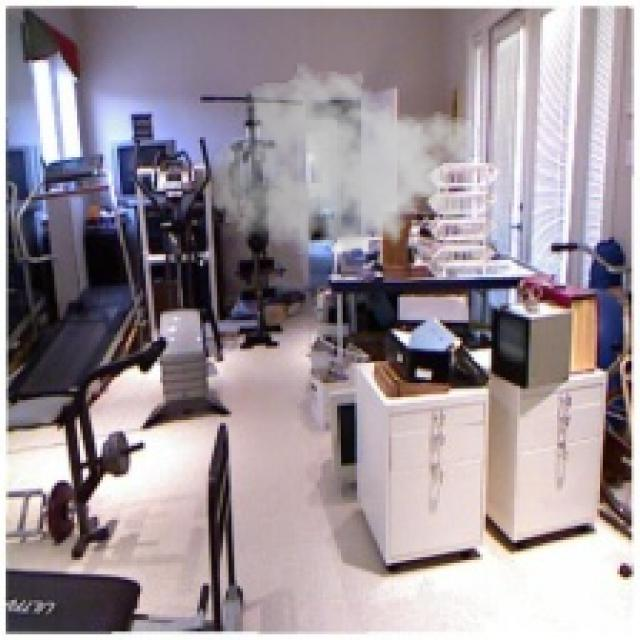smoke: (208, 57, 483, 280)
